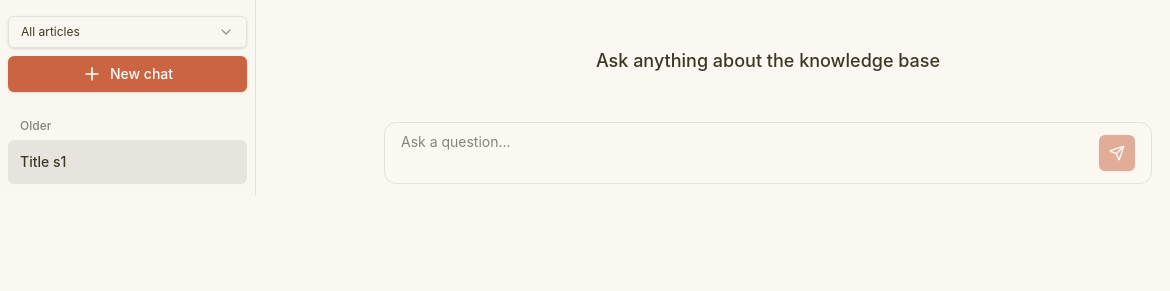
Chat page › stream events › counts the articles a retrieval step found
In the text box: coordinates (746, 153) [401, 131, 1091, 175], type "what is kaas"
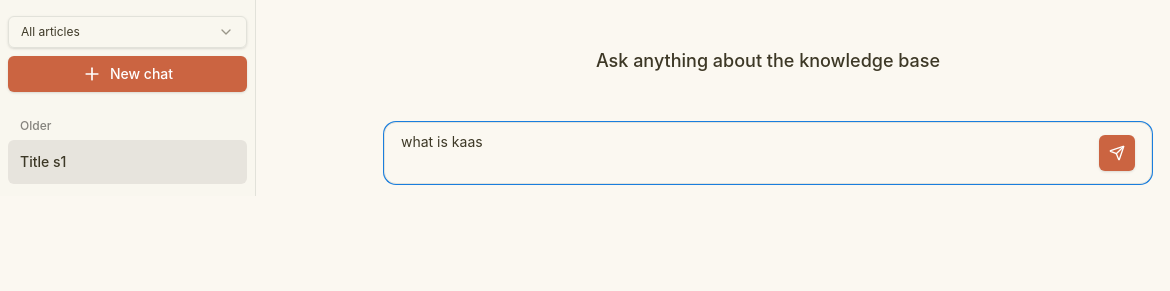
Press Enter
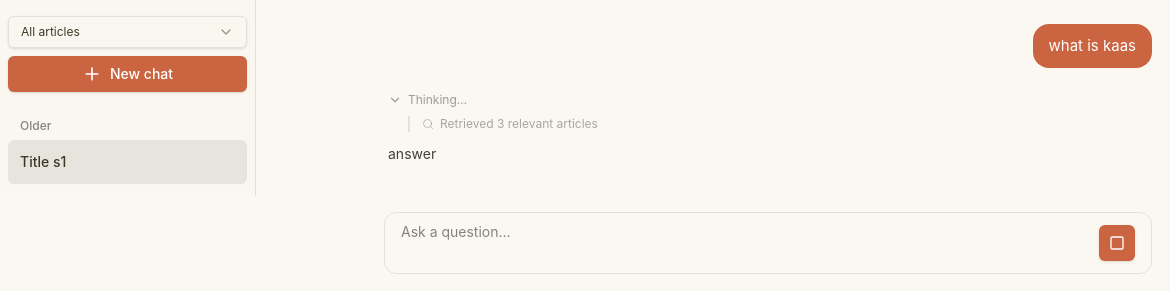
Result: the text "Retrieved 3 relevant articles" is shown at [440, 116, 598, 132]
